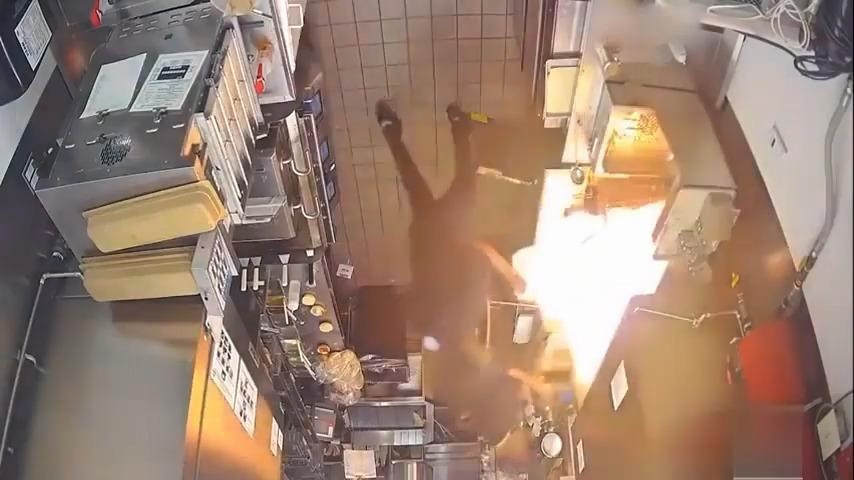fire: (495, 171, 687, 407)
